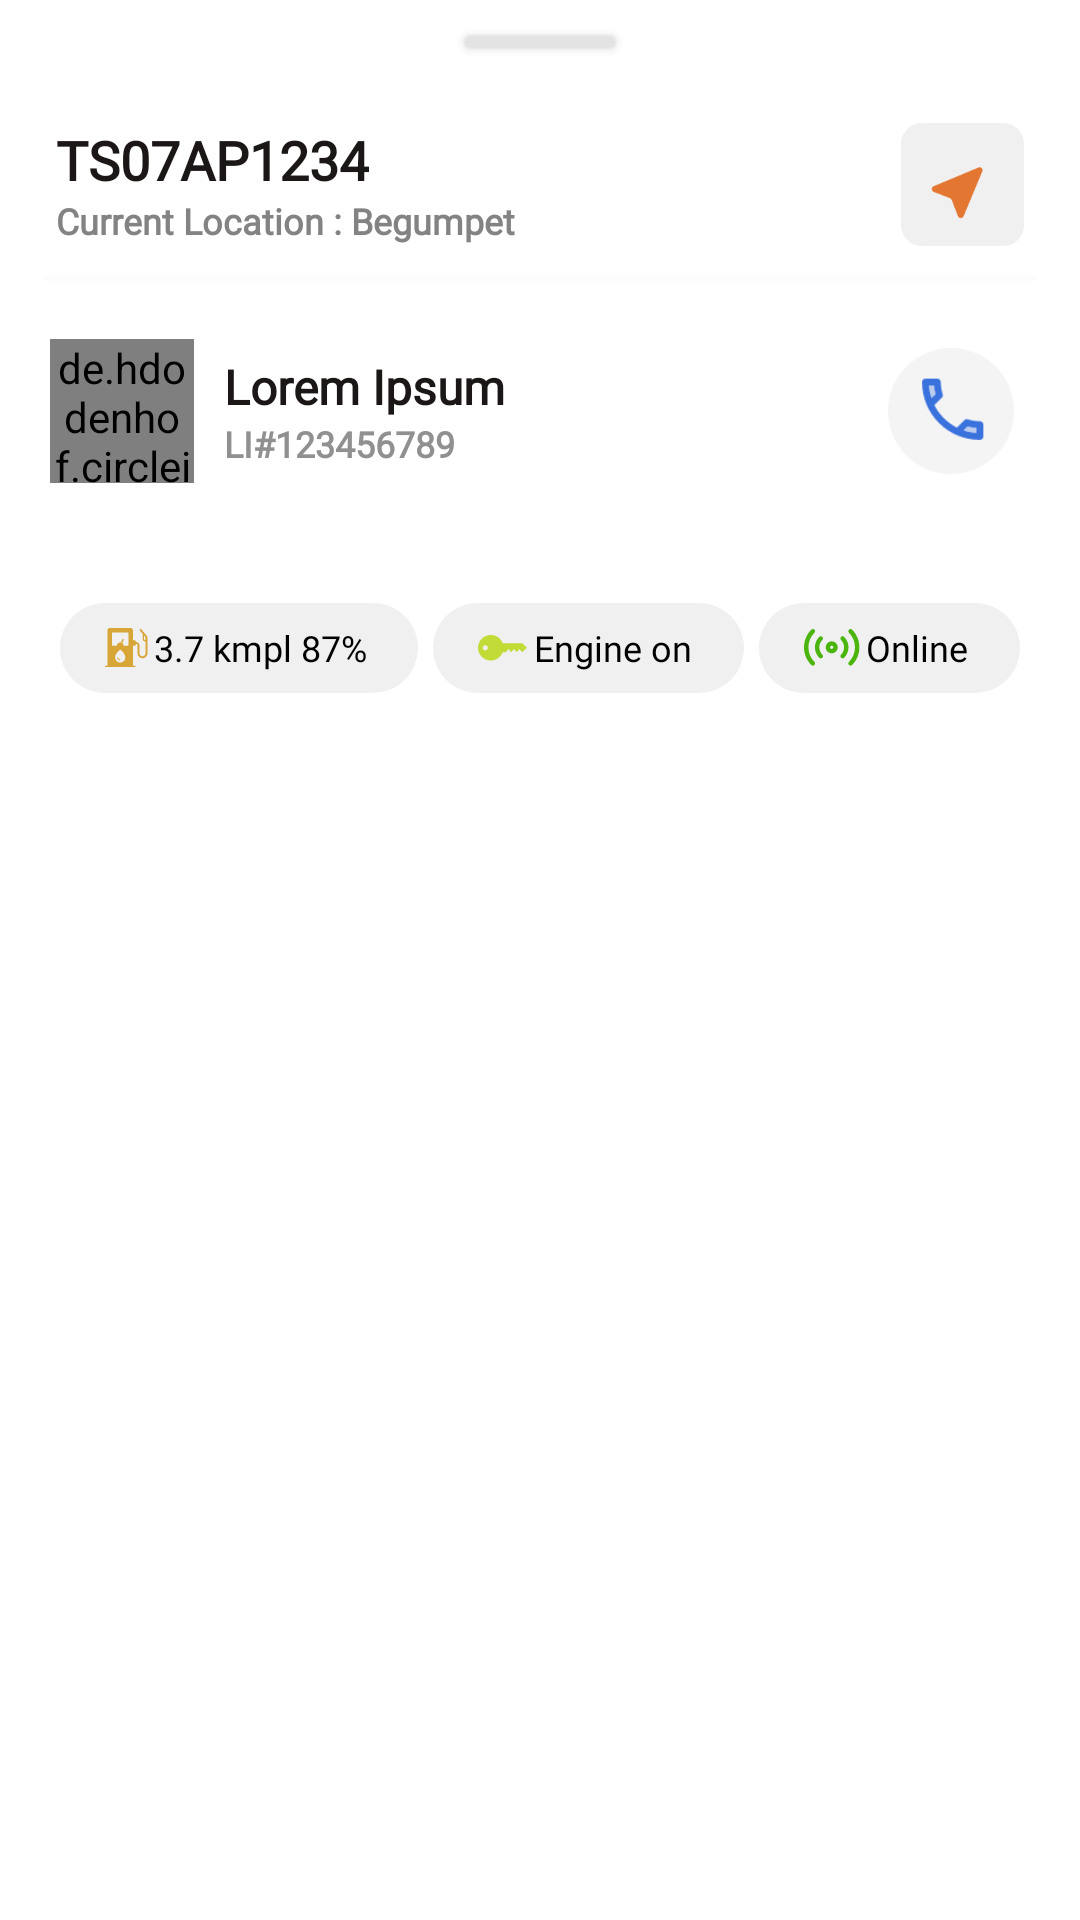

Where icons sit on this 1080w x 1920h app screen, as (x1, y1, x2, y2):
fuel: (105, 628, 148, 667)
key: (478, 635, 527, 661)
navigation: (901, 123, 1024, 246)
phone: (888, 348, 1014, 474)
signal: (804, 629, 860, 666)
